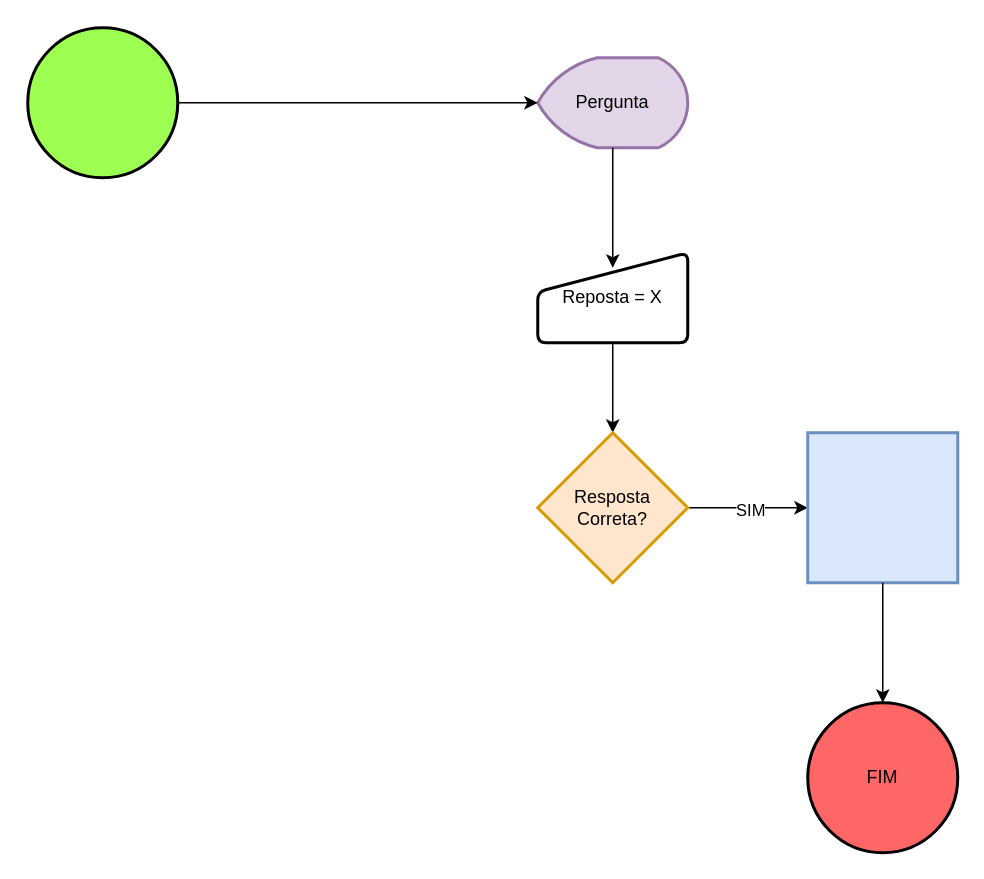
This 984x879 diagram has some shape labels left out. The shapes that lost their labels are listed below. From the top down, each one's box as (x1, y1, x2, y2) in pixels, then its label:
(26, 26, 178, 178): Inicio
(806, 430, 958, 584): Pontuação= 1
